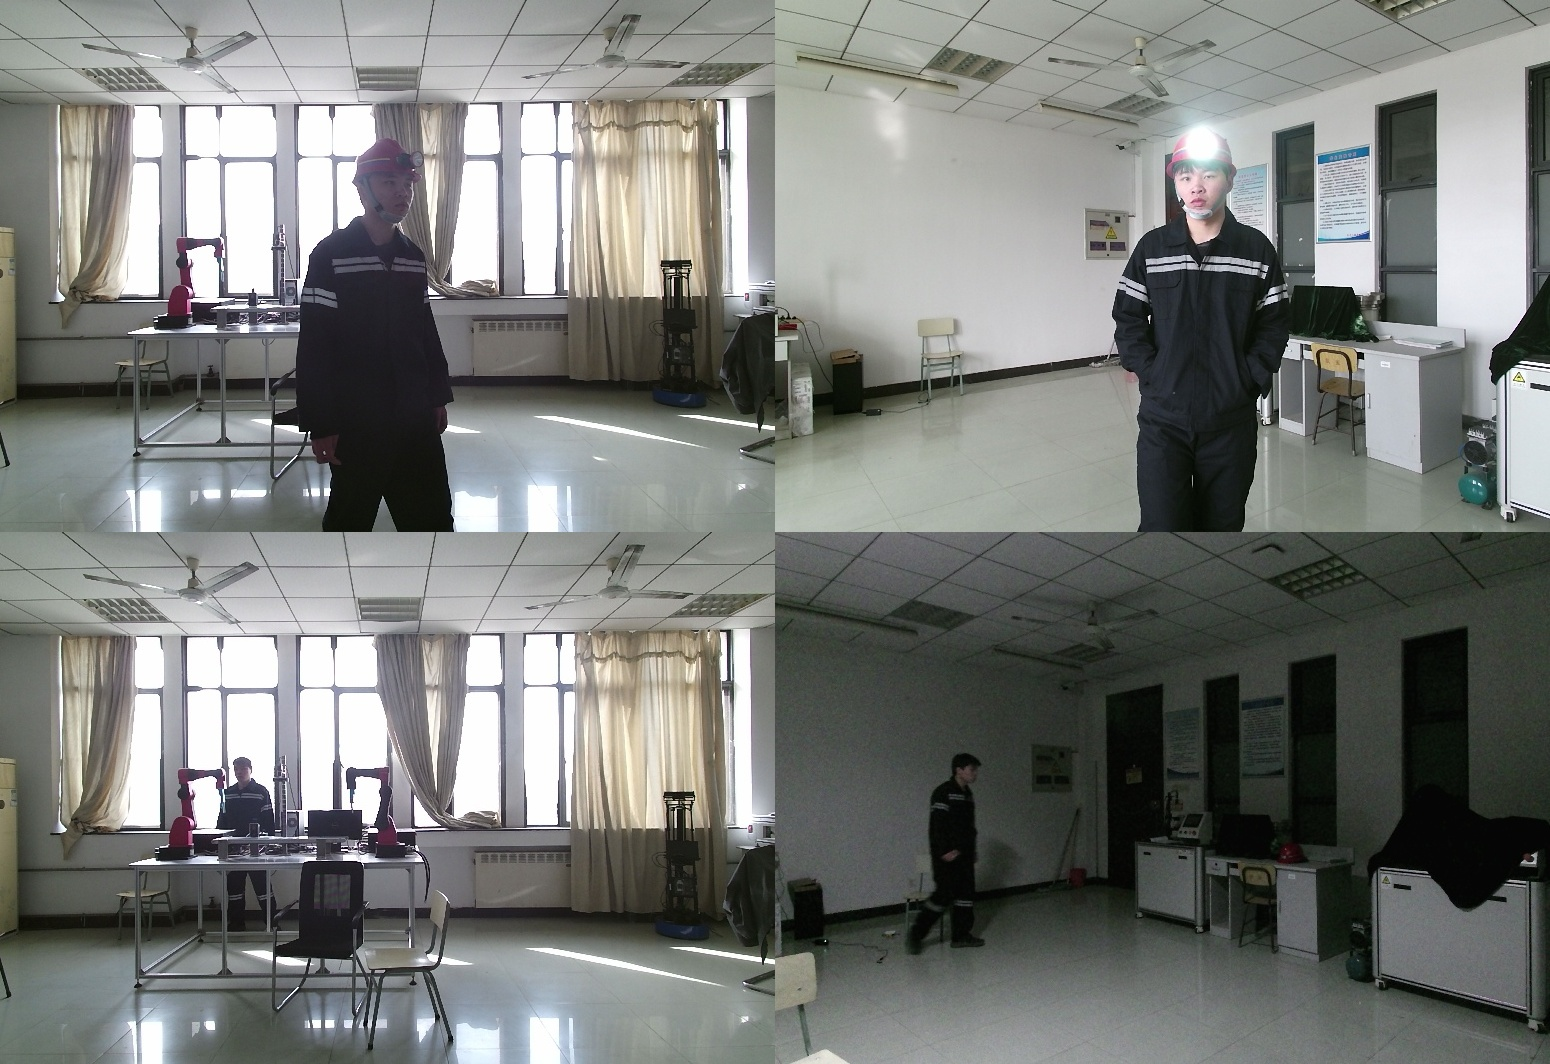person: (1113, 126, 1313, 532), (293, 137, 455, 532), (898, 755, 987, 968), (216, 760, 280, 932)
